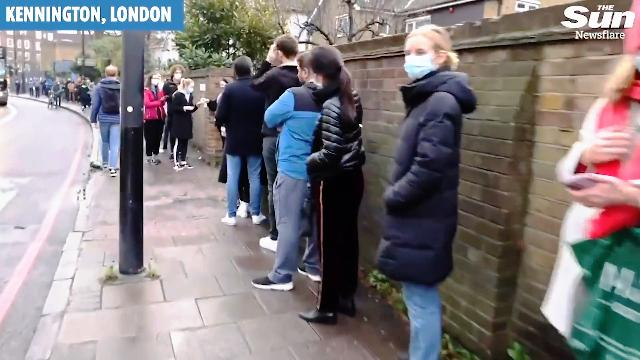berdiri: (377, 21, 481, 360), (301, 44, 369, 336), (219, 49, 271, 239), (166, 62, 200, 180)
